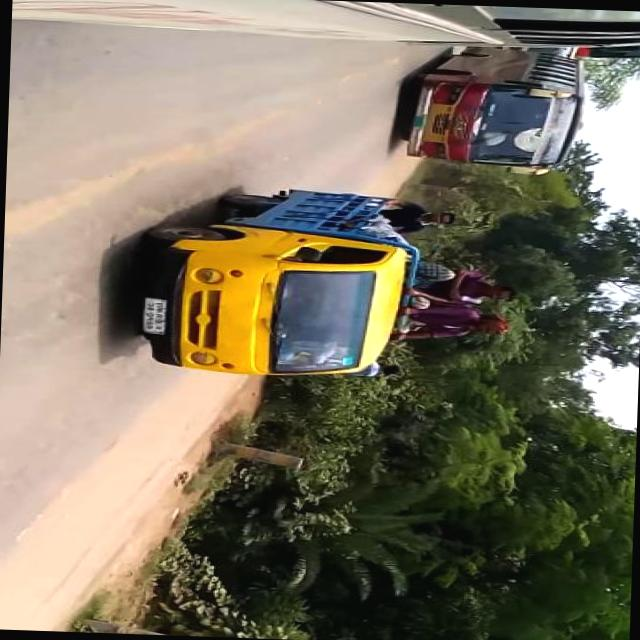bus: (17, 0, 640, 57), (396, 44, 591, 180)
truck: (127, 180, 444, 383)
